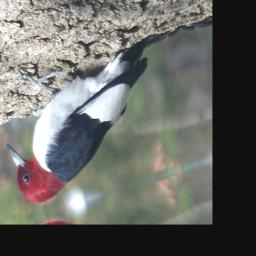Woodpecker: (0, 22, 177, 211)
